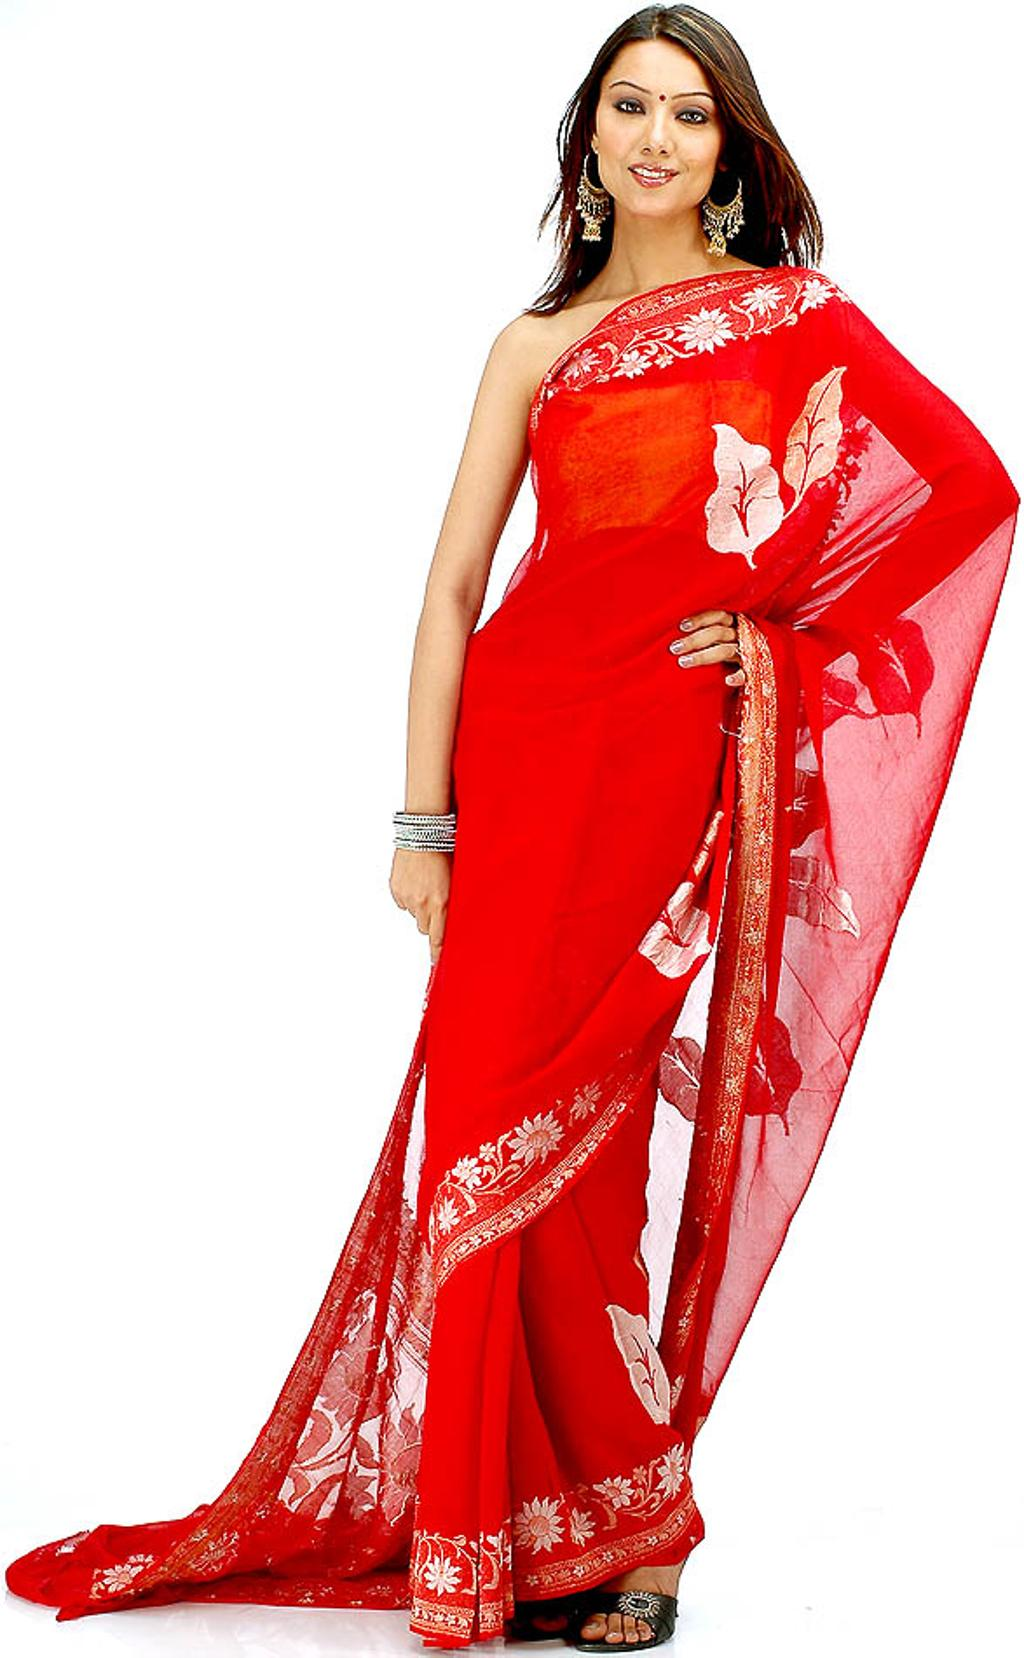face: (593, 39, 723, 217)
